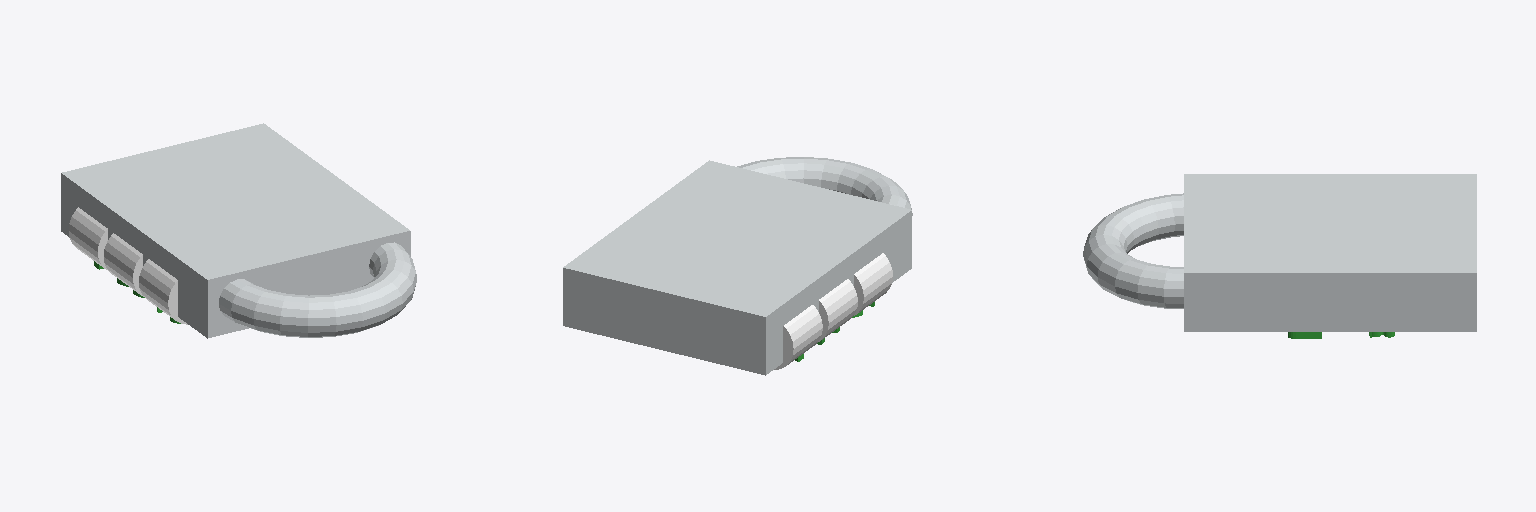
The model's file is tinker.obj.
3 views of the same model, side by side, from view 1: azimuth 30°, elevation 25°; view 2: azimuth 150°, elevation 25°; view 3: azimuth 270°, elevation 25° (orthographic).
Parts seen in each view (by area): view 1: g group_0_[number redacted], g group_0_[number redacted]; view 2: g group_0_[number redacted], g group_0_[number redacted]; view 3: g group_0_[number redacted].
Part boxes in pixels (x1,y1,x2,y2): g group_0_[number redacted]: (61, 123, 416, 338); g group_0_[number redacted]: (68, 207, 187, 324); g group_0_[number redacted]: (563, 157, 912, 375); g group_0_[number redacted]: (774, 253, 892, 369); g group_0_[number redacted]: (1083, 174, 1476, 331).
Bounding box in the file's own units: 21 × 6.5 × 33.63.